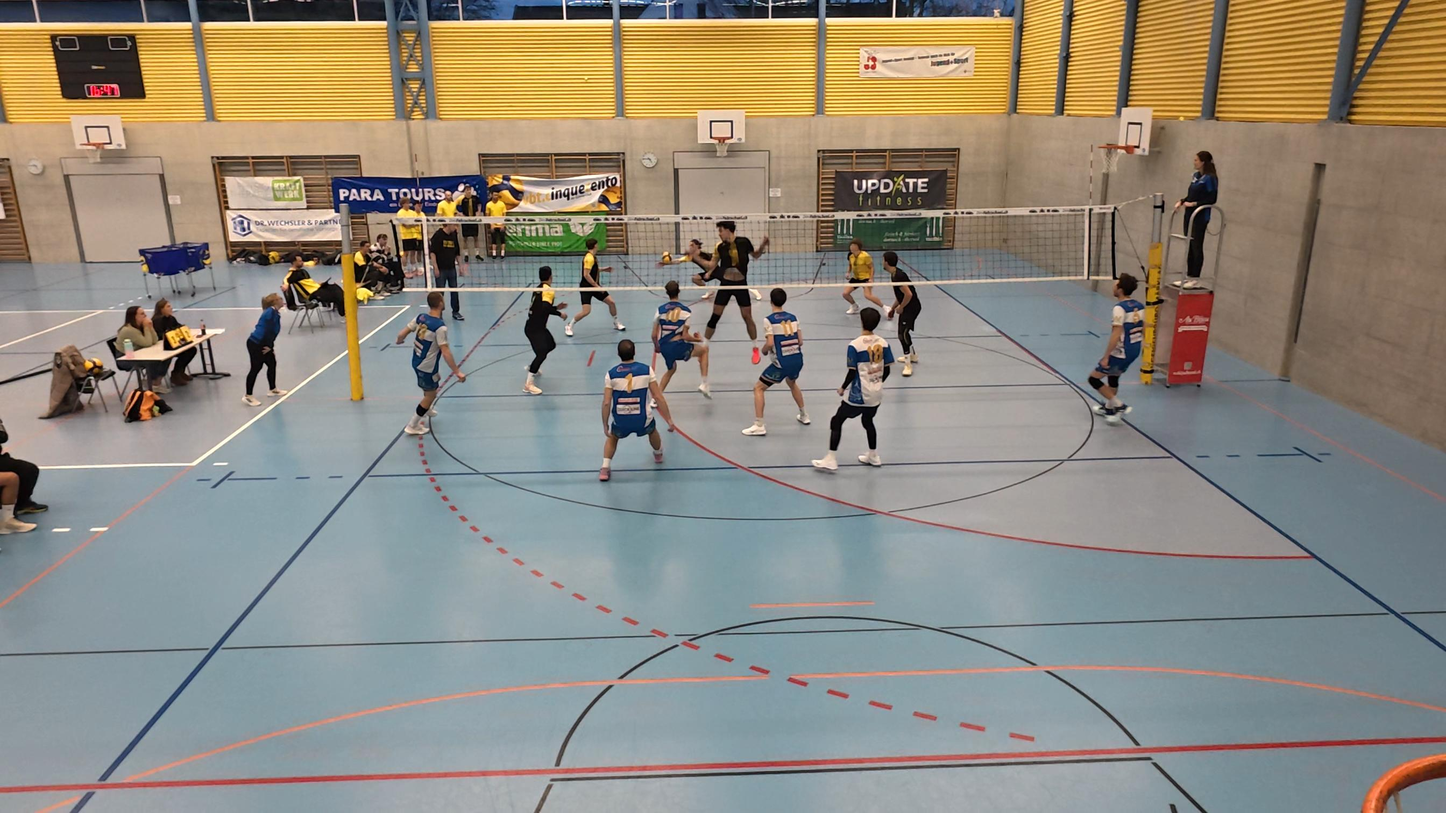difesa: (651, 233, 721, 297)
